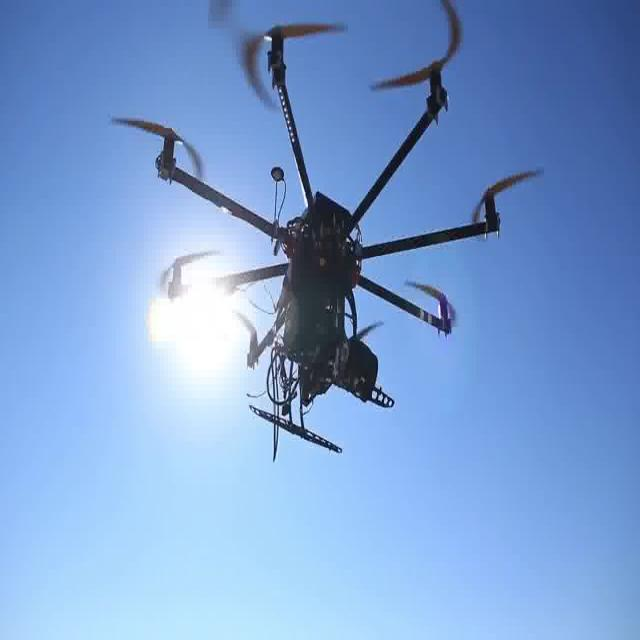drone: (92, 1, 547, 464)
